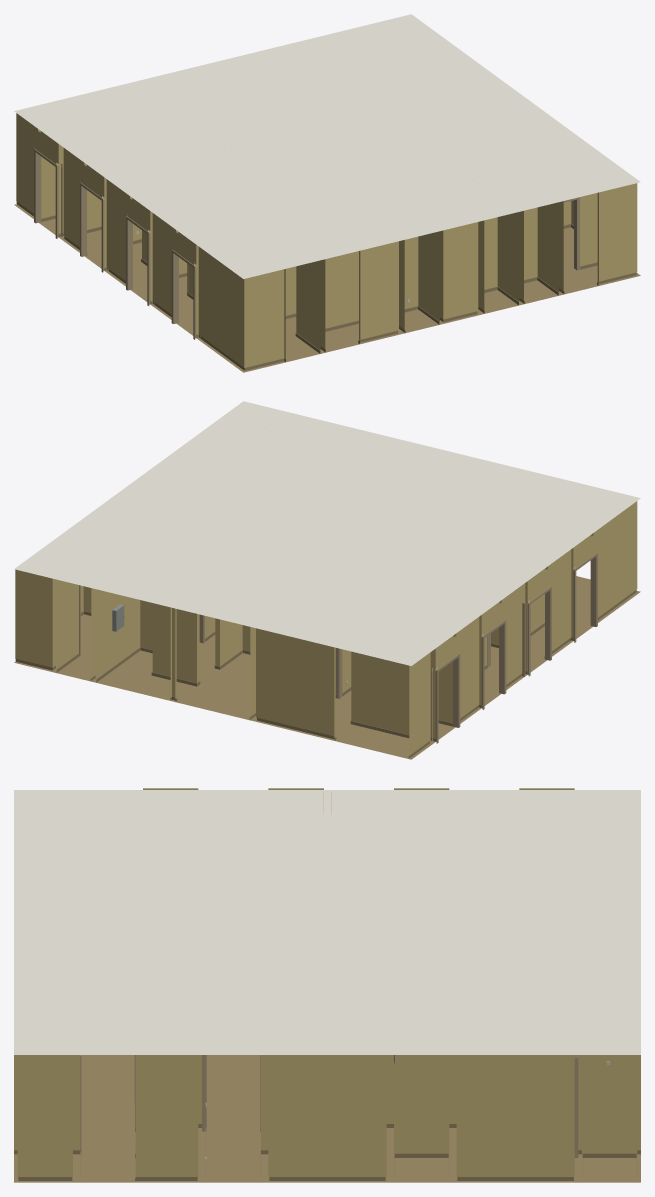
File: chunk_4_3.glb
3 renders of one model, top to bottom at view 1: azimuth 30°, elevation 25°; view 2: azimuth 150°, elevation 25°; view 3: azimuth 270°, elevation 25°, orthographic. The views are drawn at different scales.
Visible parts, largest first — view 1: chunk_4_3; view 2: chunk_4_3; view 3: chunk_4_3.
Boxes of the visible parts, x1,y1,x2,y2 form: chunk_4_3: (14,14,640,372); chunk_4_3: (14,401,640,759); chunk_4_3: (14,788,640,1182).
Bounding box in the file's own units: 12.1 × 2.7 × 12.
